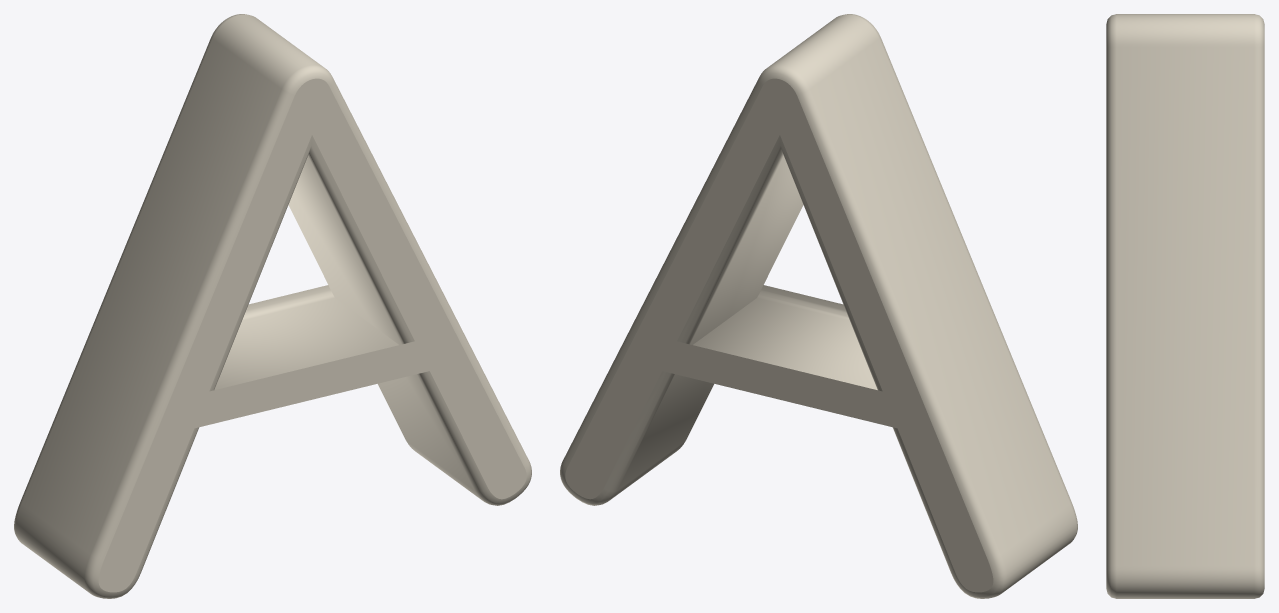
The model's file is letter_a.glb.
The picture shows the model from 3 angles, left to right: view 1: azimuth 30°, elevation 25°; view 2: azimuth 150°, elevation 25°; view 3: azimuth 270°, elevation 25°; orthographic projection.
Parts seen in each view (by area): view 1: color_body; view 2: color_body; view 3: color_body.
Part boxes in pixels (x1=…): color_body: x1=14, y1=14, x2=531, y2=598; color_body: x1=560, y1=14, x2=1077, y2=598; color_body: x1=1106, y1=14, x2=1264, y2=598.
Size of the model in its own units: 0.7858 by 0.817 by 0.242.
